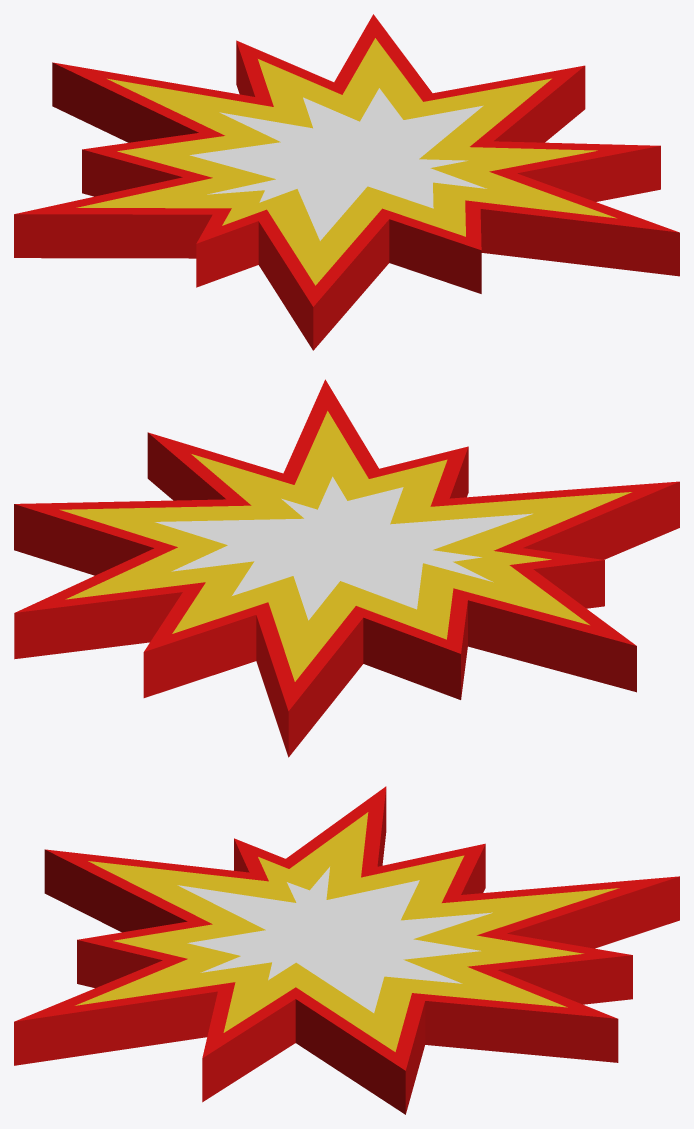
Rendered from Boom.fbx.
3 renders of one model, top to bottom at view 1: azimuth 30°, elevation 25°; view 2: azimuth 150°, elevation 25°; view 3: azimuth 270°, elevation 25°, orthographic. The views are drawn at different scales.
Visible parts, largest first — view 1: Cylinder; view 2: Cylinder; view 3: Cylinder.
Boxes of the visible parts, box(x1,y1,x2,y2) form: Cylinder: box(14, 14, 679, 350); Cylinder: box(14, 379, 679, 757); Cylinder: box(14, 786, 679, 1114).
Size of the model in its own units: 83.13 by 6 by 82.13.
